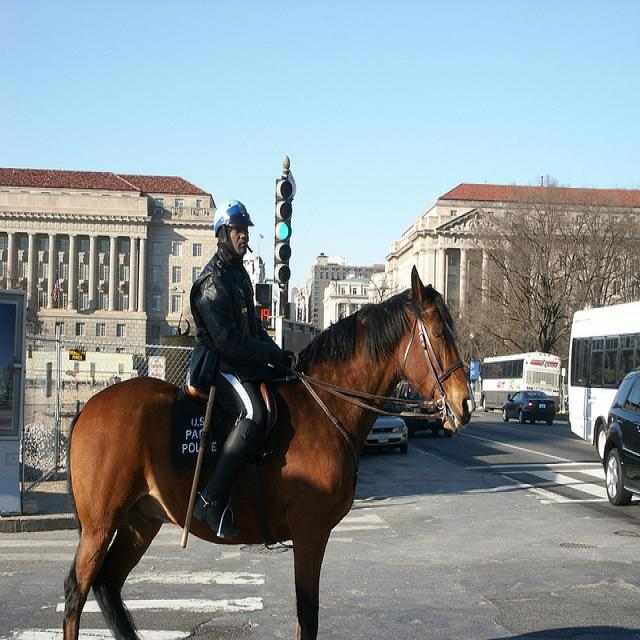Vehicle: (569, 300, 640, 468), (604, 370, 640, 510), (481, 352, 562, 413), (397, 385, 452, 439), (502, 390, 556, 426), (363, 416, 409, 454)
